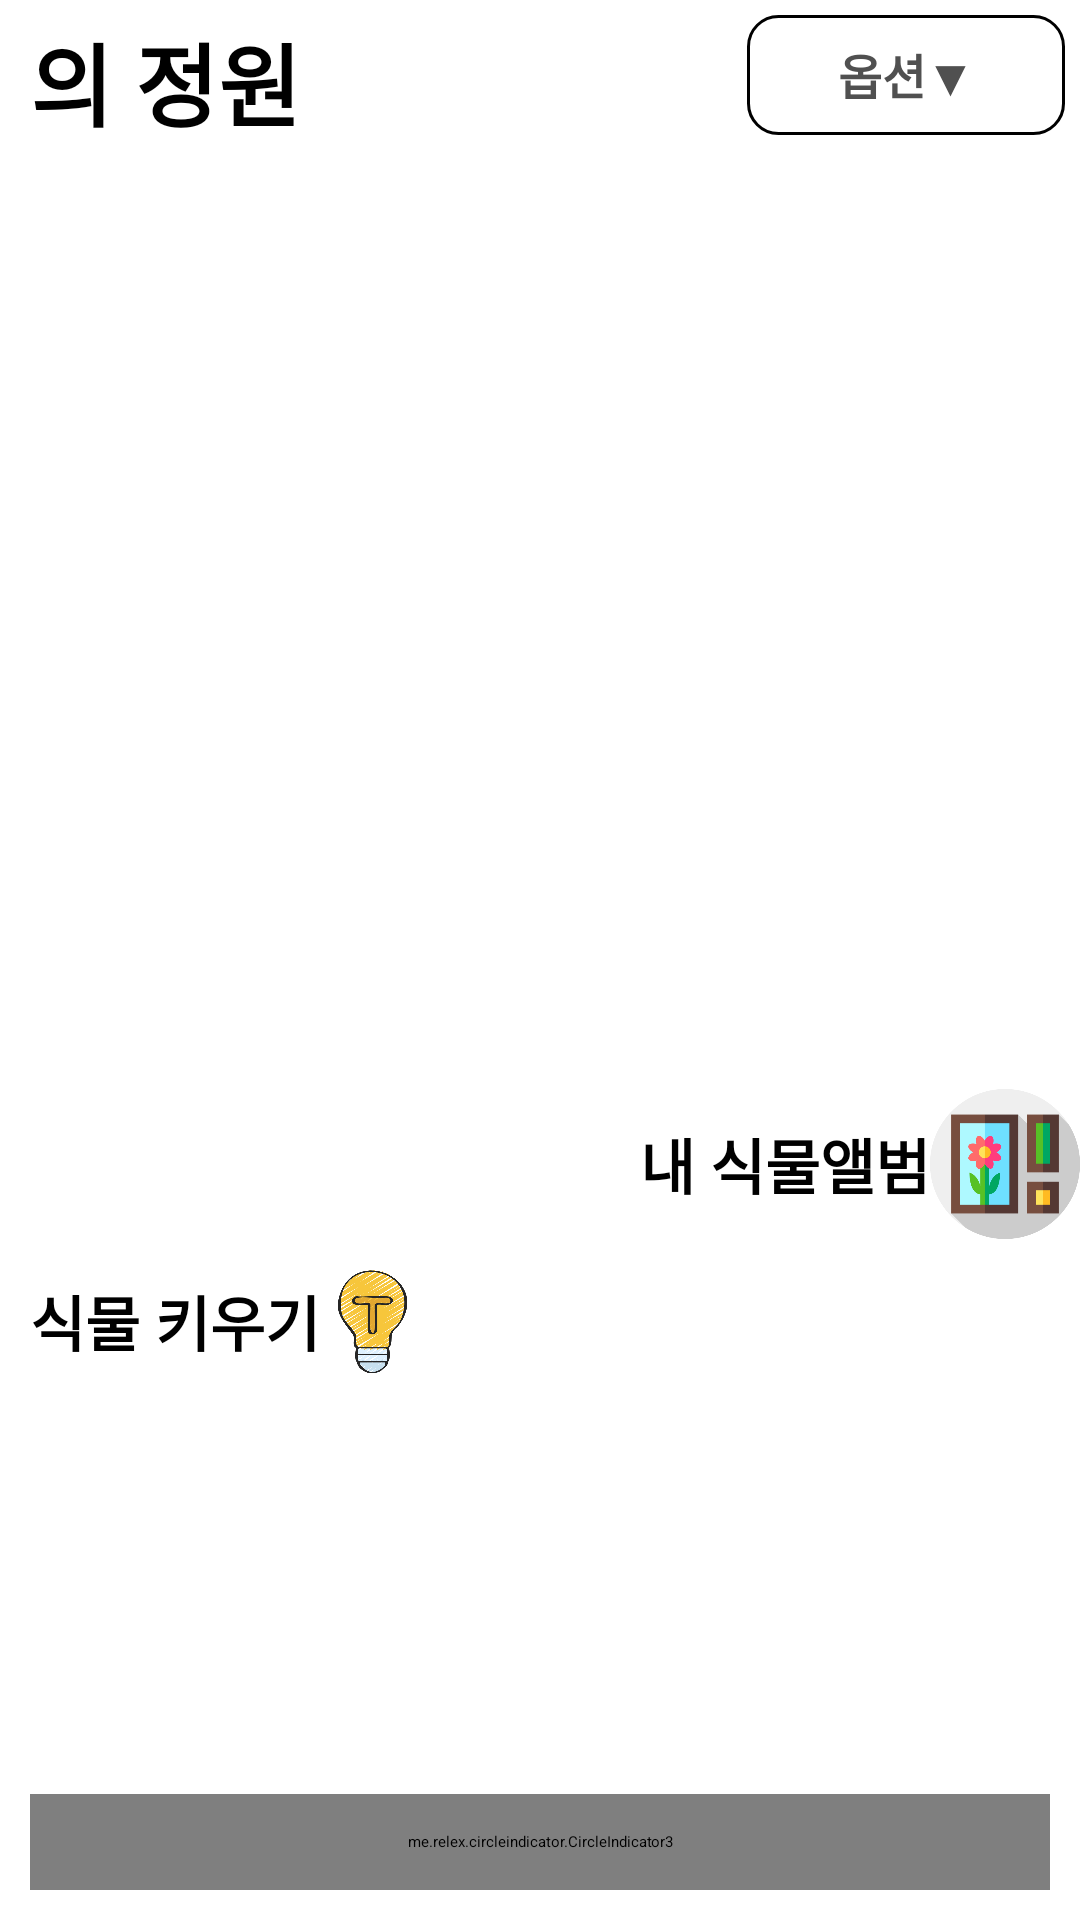

Icons on this 1080*1920 Android screen, each with its box as (x1, y1, x2, y2):
tip: (338, 1270, 407, 1373)
